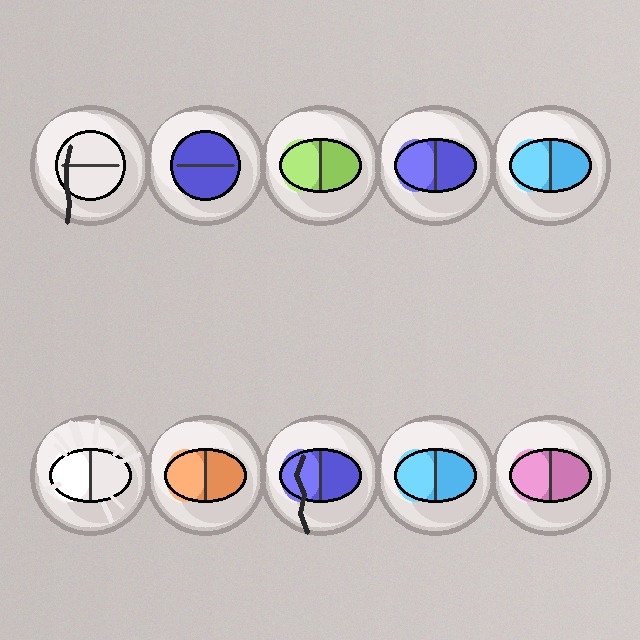crack: (28, 103, 152, 227), (258, 413, 382, 537)
flash: (28, 413, 152, 537)
